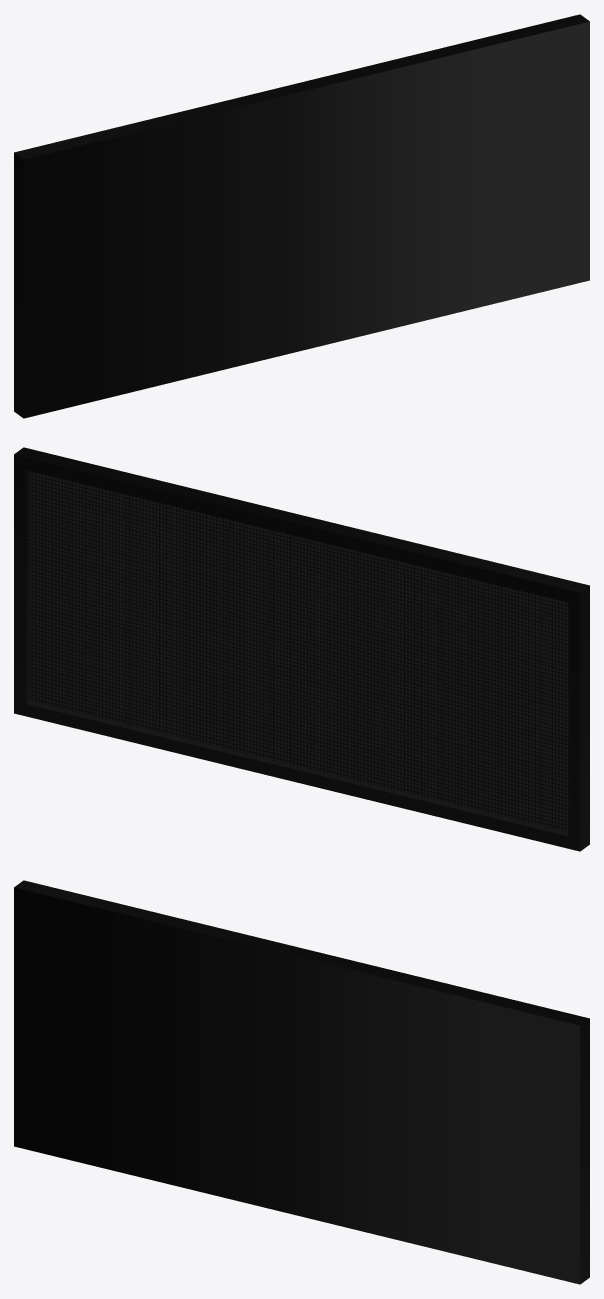
Rendered from backboard.glb.
3 views of the same model, one above another, from view 1: azimuth 30°, elevation 25°; view 2: azimuth 150°, elevation 25°; view 3: azimuth 330°, elevation 25° (orthographic).
Parts seen in each view (by area): view 1: border; view 2: backboard, border; view 3: border.
Part boxes in pixels (x1=…): border: x1=14, y1=14, x2=589, y2=418; backboard: x1=29, y1=471, x2=568, y2=832; border: x1=14, y1=447, x2=589, y2=851; border: x1=14, y1=880, x2=589, y2=1284.
Size of what is drawn, in the model's own units: 10.22 by 4.47 by 0.3044.
1 material, 1 textured.
